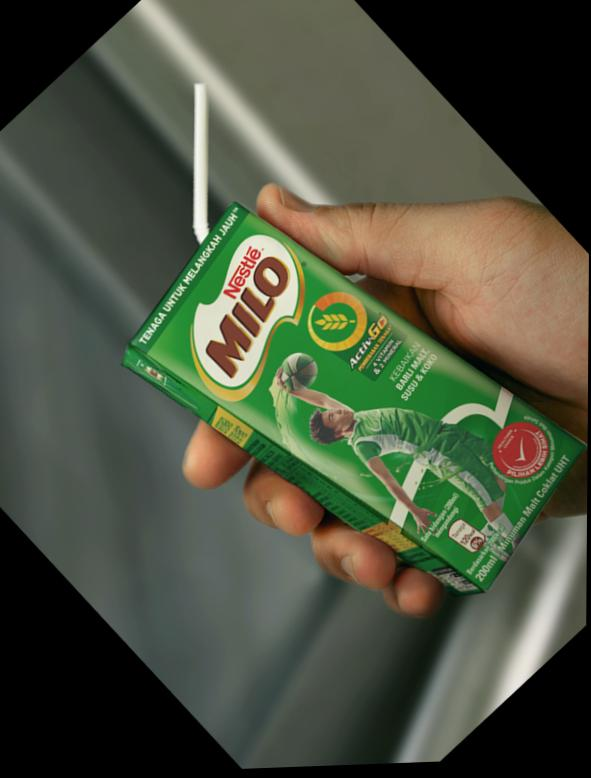cardboard: (123, 202, 586, 595)
plastic: (123, 187, 586, 612)
